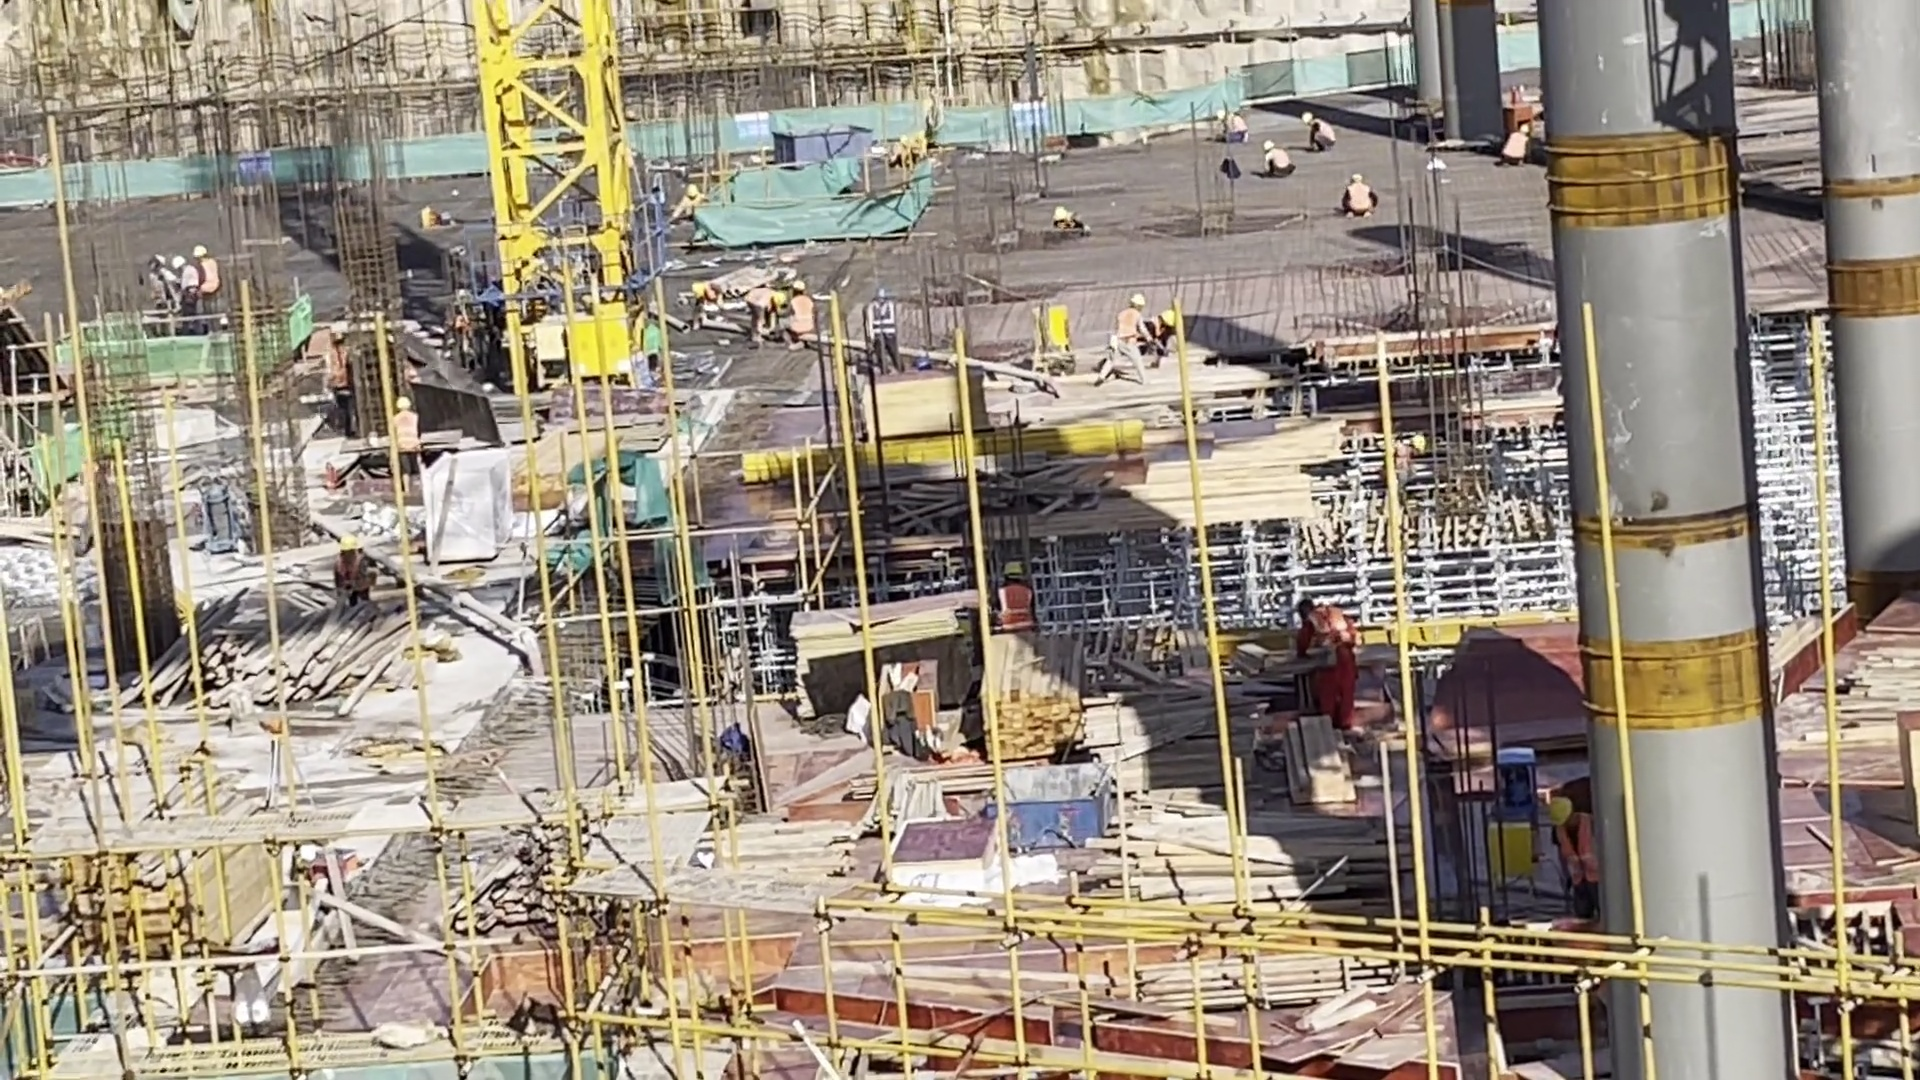helmet: (1546, 797, 1572, 827), (998, 560, 1022, 584), (683, 180, 703, 207), (1123, 292, 1150, 310), (792, 281, 812, 302), (1054, 205, 1072, 225), (1159, 308, 1175, 332), (1408, 435, 1424, 457), (390, 391, 407, 411), (769, 287, 784, 307), (169, 253, 185, 270), (1214, 107, 1230, 124), (875, 285, 891, 300), (1298, 111, 1313, 126), (1260, 137, 1275, 153), (145, 255, 155, 275), (1517, 124, 1530, 140), (193, 242, 205, 258), (1349, 174, 1360, 184)
person: (1292, 599, 1363, 740), (320, 324, 365, 426), (863, 287, 908, 374), (1107, 290, 1150, 381), (139, 259, 182, 342), (328, 540, 381, 605), (1375, 429, 1427, 488), (196, 246, 232, 329), (741, 285, 789, 344), (168, 253, 205, 328), (390, 394, 417, 496), (784, 280, 817, 351), (1138, 304, 1187, 352), (691, 279, 732, 332), (1491, 117, 1533, 167), (1337, 172, 1381, 216), (1050, 202, 1092, 246), (1297, 108, 1339, 152), (671, 186, 709, 224), (1214, 107, 1250, 146), (1258, 140, 1296, 173), (885, 138, 913, 167), (907, 130, 933, 160)
vest: (1307, 615, 1349, 673), (867, 301, 894, 341), (325, 347, 349, 389), (795, 300, 818, 335), (396, 416, 416, 454), (203, 260, 227, 291), (1115, 308, 1133, 342), (1502, 133, 1522, 161), (1349, 183, 1368, 210), (1320, 119, 1334, 138), (1232, 118, 1247, 132), (1272, 152, 1289, 164)
